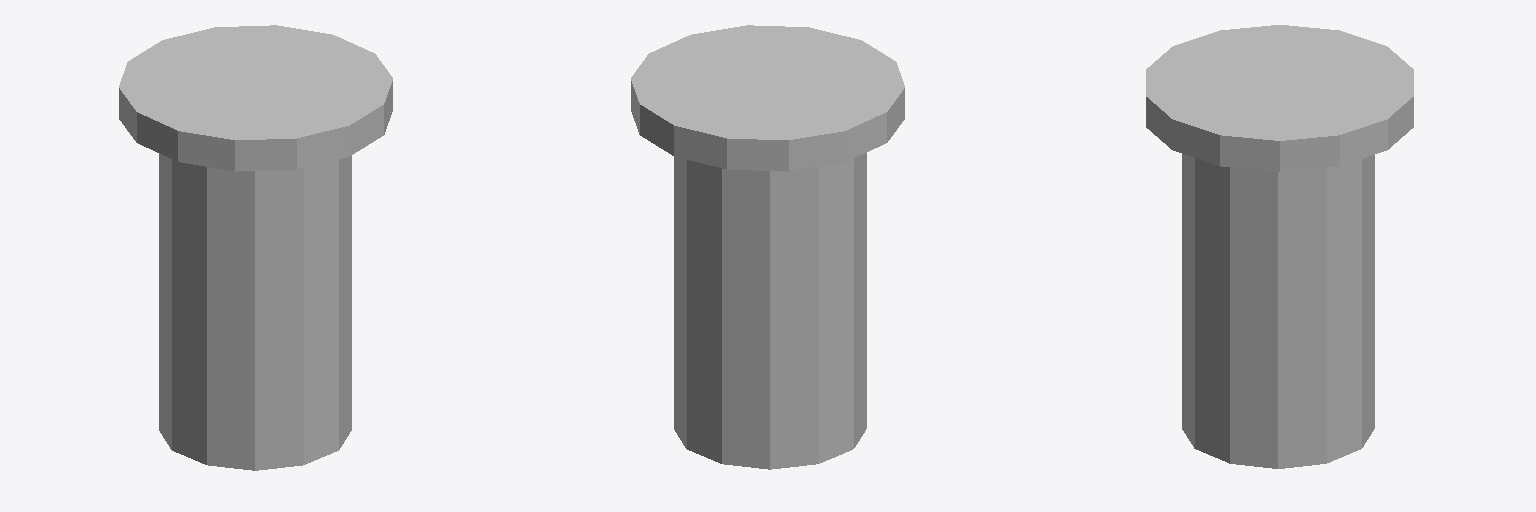
File: pipe_7_lod1.obj
The picture shows the model from 3 angles: view 1: azimuth 30°, elevation 25°; view 2: azimuth 150°, elevation 25°; view 3: azimuth 270°, elevation 25°; orthographic projection.
Parts seen in each view (by area): view 1: pipe_7_lod1.obj; view 2: pipe_7_lod1.obj; view 3: pipe_7_lod1.obj.
Boxes of the visible parts, x1=… form: pipe_7_lod1.obj: x1=119, y1=25, x2=392, y2=470; pipe_7_lod1.obj: x1=631, y1=25, x2=904, y2=469; pipe_7_lod1.obj: x1=1146, y1=25, x2=1413, y2=468.
Size of the model in its own units: 1.25 by 1.73 by 1.22.